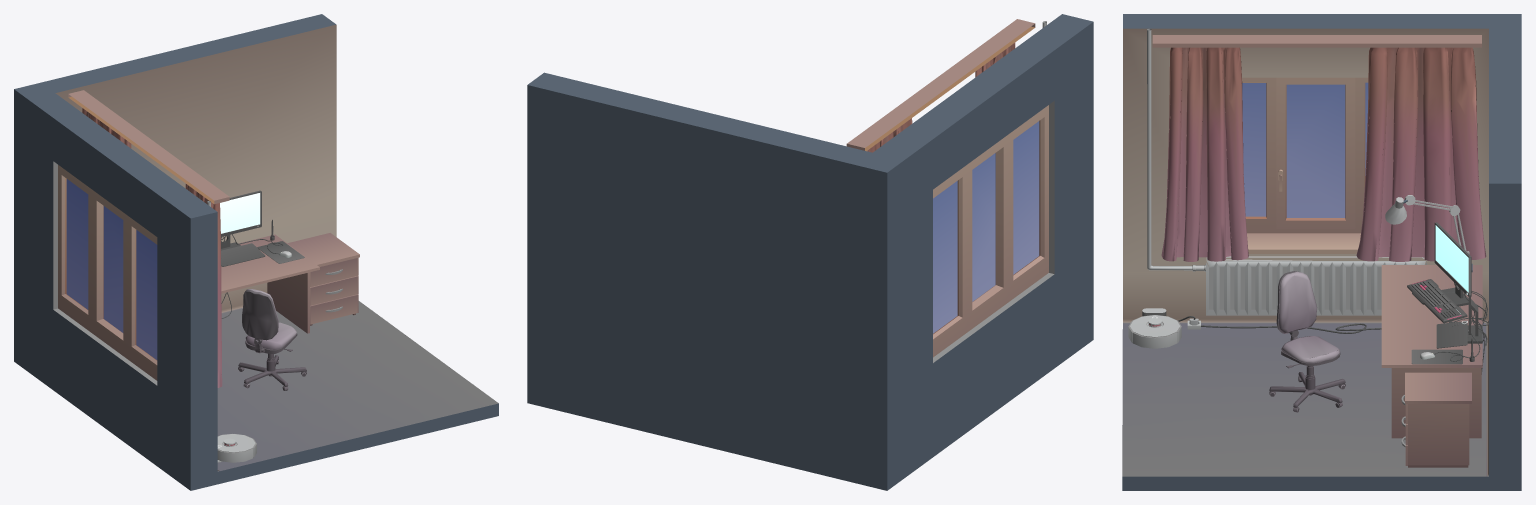
File: optimized-room.glb
3 renders of one model, left to right at view 1: azimuth 30°, elevation 25°; view 2: azimuth 150°, elevation 25°; view 3: azimuth 270°, elevation 25°, orthographic. The views are drawn at different scales.
Visible parts, largest first — view 1: _________6_blinn1_0, window4_phong1_0, emis_lambert1_0; view 2: _________6_blinn1_0, window4_phong1_0; view 3: _________6_blinn1_0, window4_phong1_0, emis_lambert1_0.
Boxes of the visible parts, <box> form: _________6_blinn1_0: <box>14,14,498,490</box>; window4_phong1_0: <box>66,179,157,359</box>; emis_lambert1_0: <box>218,193,281,447</box>; _________6_blinn1_0: <box>527,14,1093,490</box>; window4_phong1_0: <box>933,121,1039,333</box>; _________6_blinn1_0: <box>1122,14,1521,490</box>; window4_phong1_0: <box>1242,82,1368,217</box>; emis_lambert1_0: <box>1152,225,1468,353</box>.
Size of the model in its own units: 6.68 by 5.66 by 6.65.
